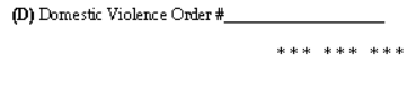textline: (223, 11, 386, 25)
